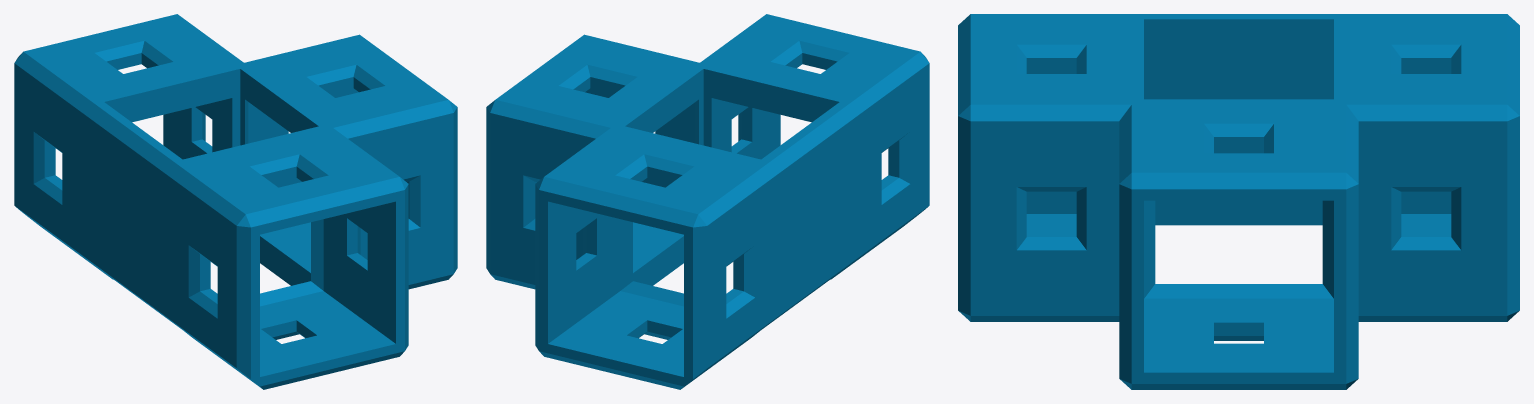
Rendered from connector-2d3w-pt-y.glb.
3 renders of one model, left to right at view 1: azimuth 30°, elevation 25°; view 2: azimuth 150°, elevation 25°; view 3: azimuth 270°, elevation 25°, orthographic. The views are drawn at different scales.
Parts seen in each view (by area): view 1: connector-2d3w-pt-y.stl; view 2: connector-2d3w-pt-y.stl; view 3: connector-2d3w-pt-y.stl.
Part boxes in pixels (x1,y1,x2,y2): connector-2d3w-pt-y.stl: (14,14,457,389); connector-2d3w-pt-y.stl: (486,14,929,389); connector-2d3w-pt-y.stl: (958,14,1519,389).
Bounding box in the file's own units: 32.1 × 19.2 × 45.
